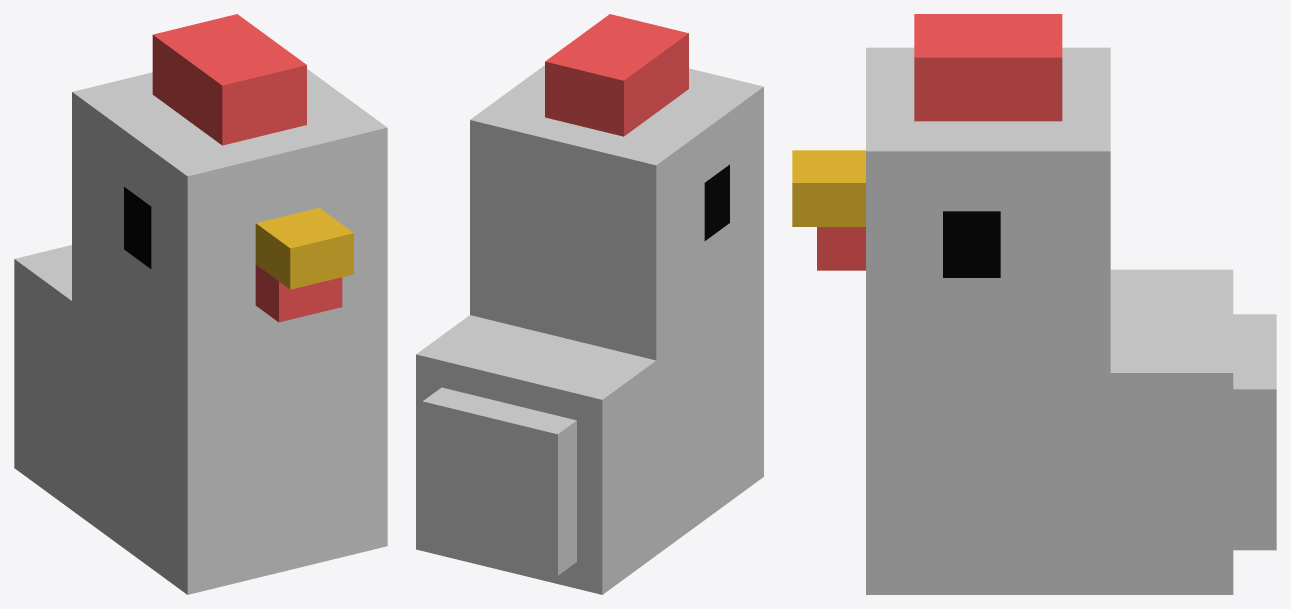
The model's file is Chicken_body_v2.fbx.
The picture shows the model from 3 angles, left to right: view 1: azimuth 30°, elevation 25°; view 2: azimuth 150°, elevation 25°; view 3: azimuth 270°, elevation 25°; orthographic projection. The views are drawn at different scales.
Parts seen in each view (by area): view 1: Chiken.003; view 2: Chiken.003; view 3: Chiken.003.
Boxes of the visible parts, bbox=[...] form: Chiken.003: bbox=[14, 14, 387, 594]; Chiken.003: bbox=[416, 14, 763, 594]; Chiken.003: bbox=[792, 14, 1276, 594].
Bounding box in the file's own units: 200 × 457 × 395.
